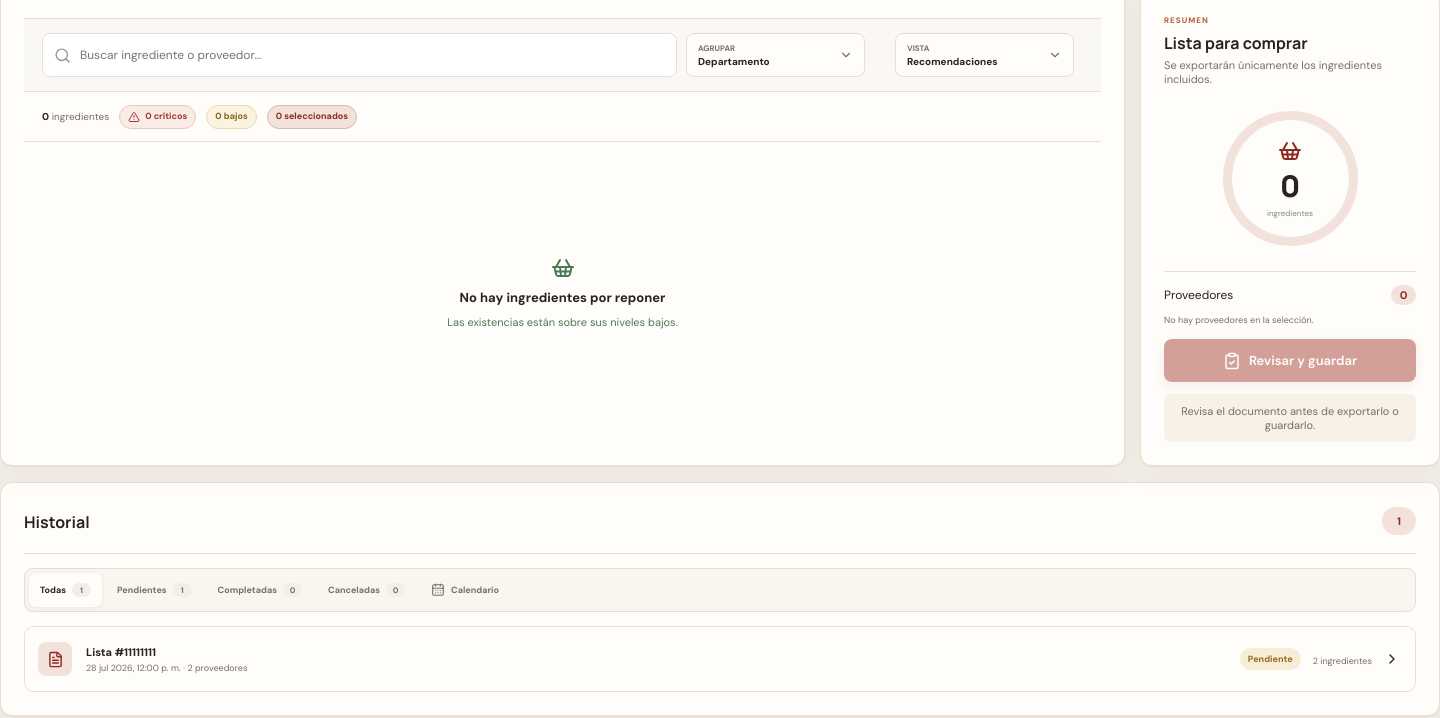
ShoppingPage purchase receipt review › reviews ordered and received quantities before adding inventory
Click the button "Lista #11111111".
click(55, 659)  # box [25,627,1415,691]
(page scrolled)
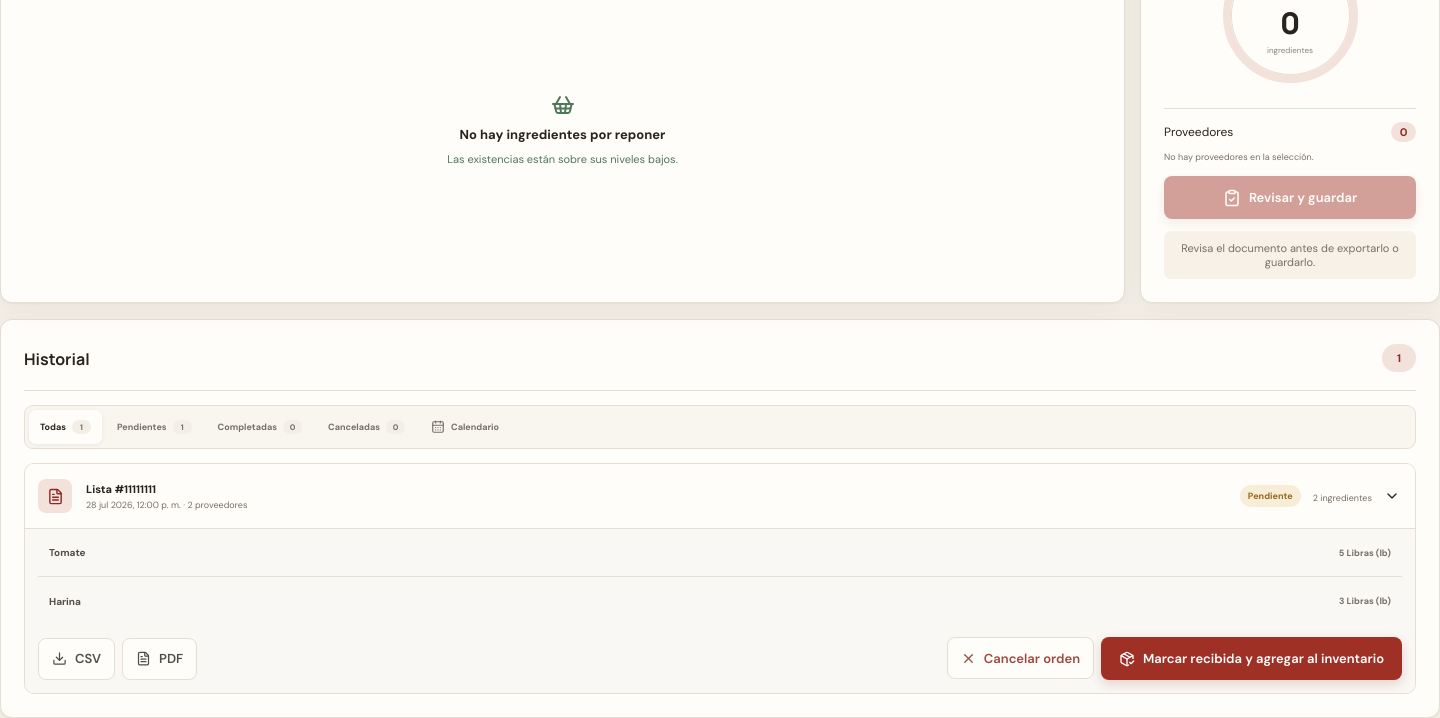
Click the button "Marcar recibida y agregar al inventario".
click(1252, 658)  # box [1101,637,1402,680]
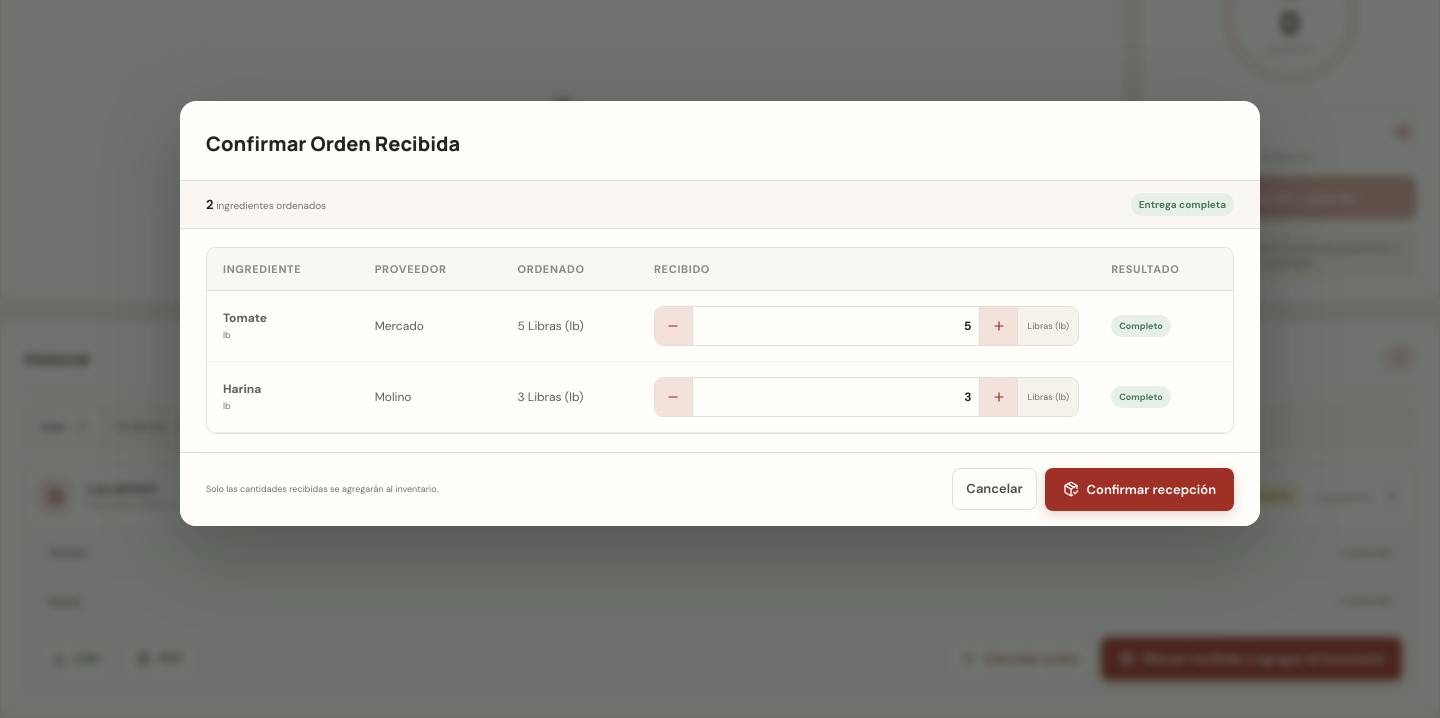
Expected: the dialog named "Revisar recepción" is shown, [180,100,1260,526]
Expected: the field named "Cantidad recibida de Tomate" holds "5"
Expected: the field named "Cantidad recibida de Harina" holds "3", [693,378,980,416]
Replace the text in the field named "Cantidad recibida de Tomate" with "0" at [836, 326], box [693,306,980,344]
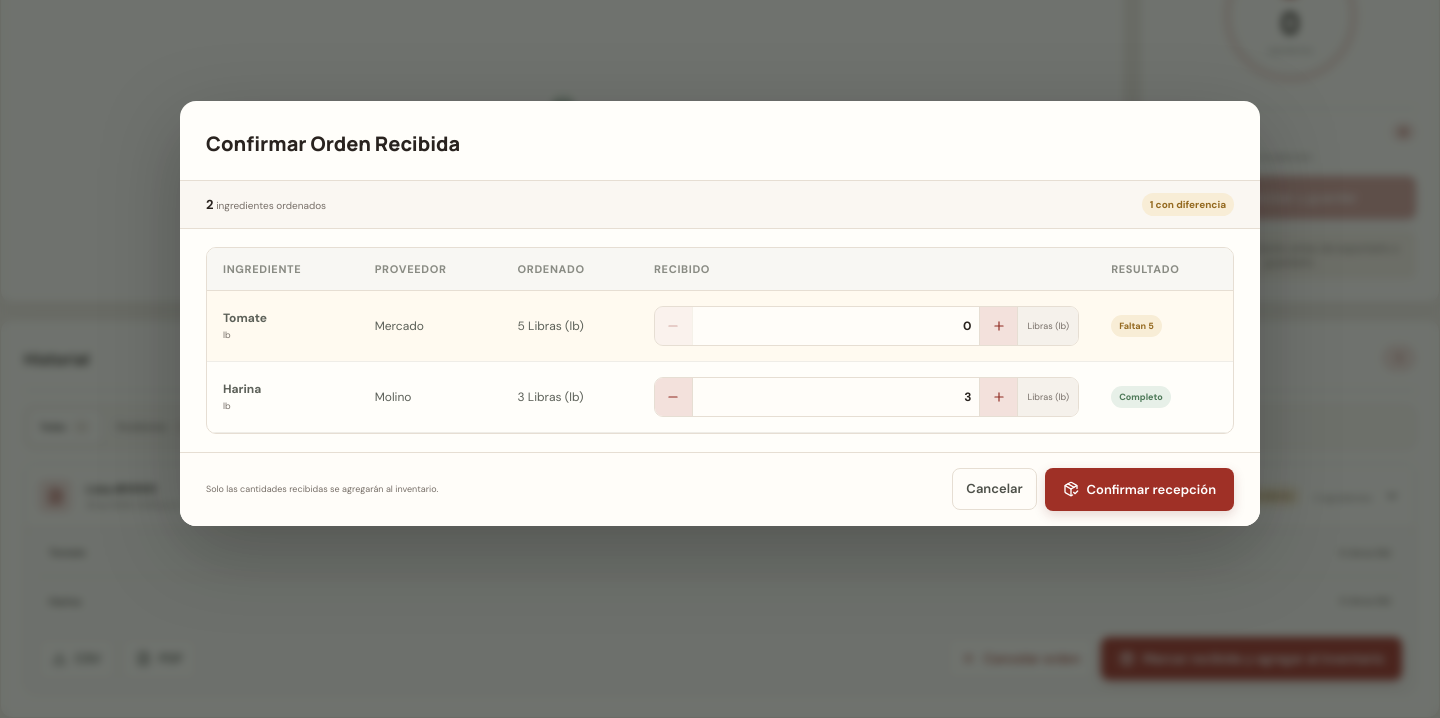
Expected: the text "Faltan 5" is shown, [1111,314,1162,336]
Expected: the text "1 con diferencia" is shown, [1142,192,1234,216]
Click the button "Confirmar recepción".
click(1139, 489)  # box [1045,468,1234,510]
(page scrolled)
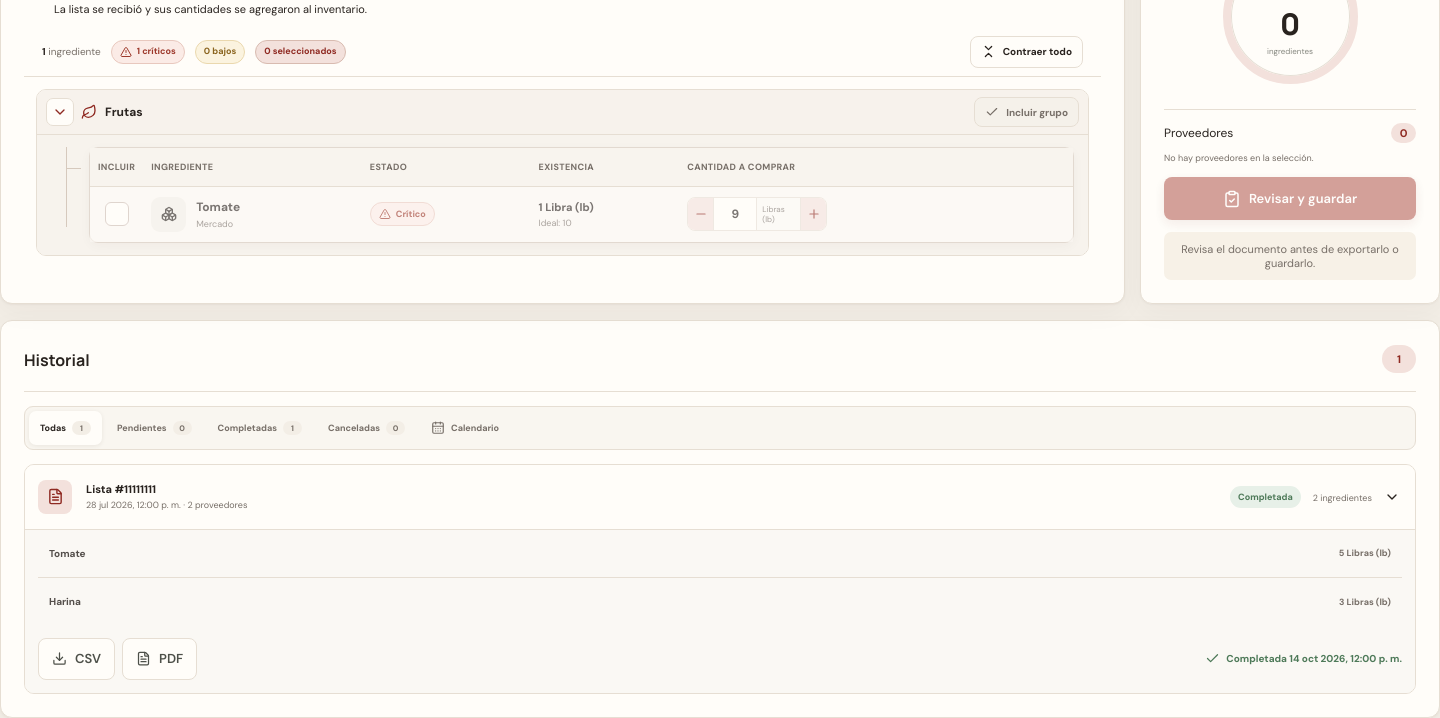
Expected: the text "0 seleccionados" is shown, [255,40,346,64]
Expected: the button named "Incluir Tomate" is shown, [105,202,129,226]
